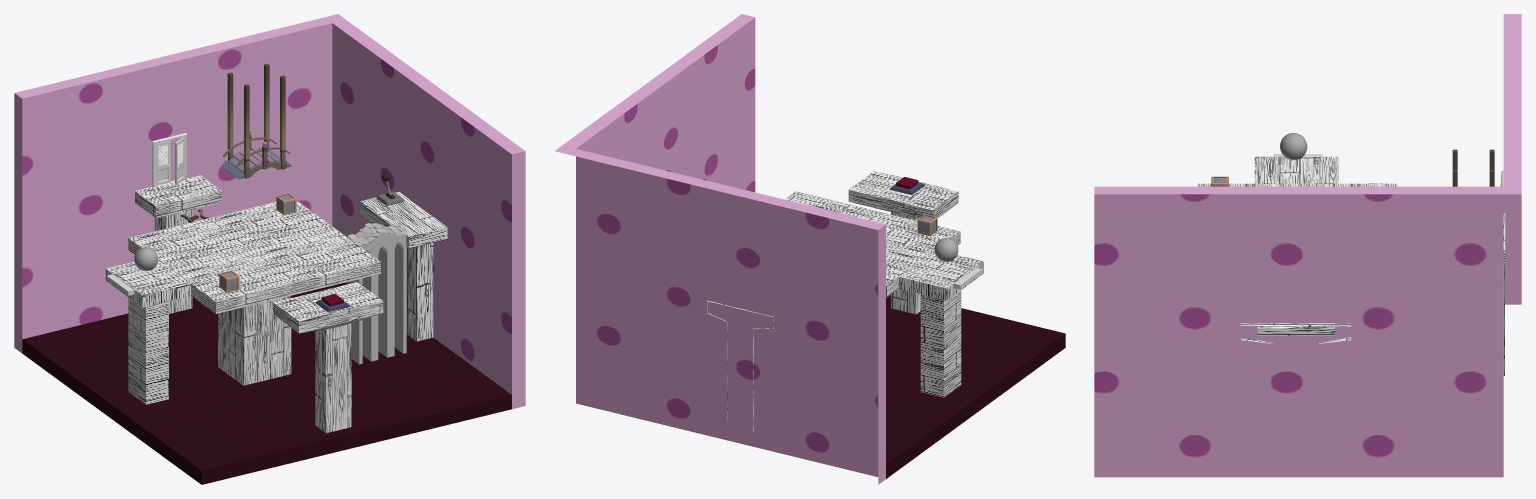
File: Prototypy Level.fbx
3 views of the same model, side by side, from view 1: azimuth 30°, elevation 25°; view 2: azimuth 150°, elevation 25°; view 3: azimuth 270°, elevation 25° (orthographic). The views are drawn at different scales.
Parts seen in each view (by area): view 1: wallLeft, wallRight, wallVoid, platformMain, platformPressurePad, platformEntrance, Tiles2, platformSwitch, TreeBridgeFallDown, platformGoal, pSphere6; view 2: wallLeft, wallRight, wallVoid, platformEntrance, platformMain, platformPressurePad; view 3: wallRight, wallLeft, platformEntrance, drawBridge, platformMain, platformSwitch, pSphere1.
Boxes of the visible parts, left/top/right/bottom form: wallLeft: left=14, top=14, right=337, bottom=353; wallRight: left=332, top=14, right=525, bottom=409; wallVoid: left=22, top=282, right=511, bottom=484; platformMain: left=128, top=200, right=380, bottom=385; platformPressurePad: left=273, top=282, right=383, bottom=433; platformEntrance: left=105, top=260, right=190, bottom=404; Tiles2: left=347, top=223, right=406, bottom=364; platformSwitch: left=360, top=192, right=447, bottom=341; TreeBridgeFallDown: left=221, top=63, right=291, bottom=179; platformGoal: left=135, top=175, right=221, bottom=313; pSphere6: left=152, top=132, right=186, bottom=187; wallLeft: left=554, top=148, right=885, bottom=484; wallRight: left=555, top=14, right=755, bottom=192; wallVoid: left=886, top=294, right=1065, bottom=478; platformEntrance: left=898, top=251, right=983, bottom=397; platformMain: left=784, top=191, right=960, bottom=297; platformPressurePad: left=848, top=171, right=958, bottom=314; wallRight: left=1094, top=186, right=1520, bottom=477; wallLeft: left=1503, top=14, right=1521, bottom=304; platformEntrance: left=1254, top=156, right=1338, bottom=183; drawBridge: left=1257, top=326, right=1334, bottom=335; platformMain: left=1197, top=183, right=1397, bottom=186; platformSwitch: left=1240, top=323, right=1351, bottom=343; pSphere1: left=1280, top=133, right=1307, bottom=160.
Size of the model in its own units: 31.06 by 23.35 by 31.12.
